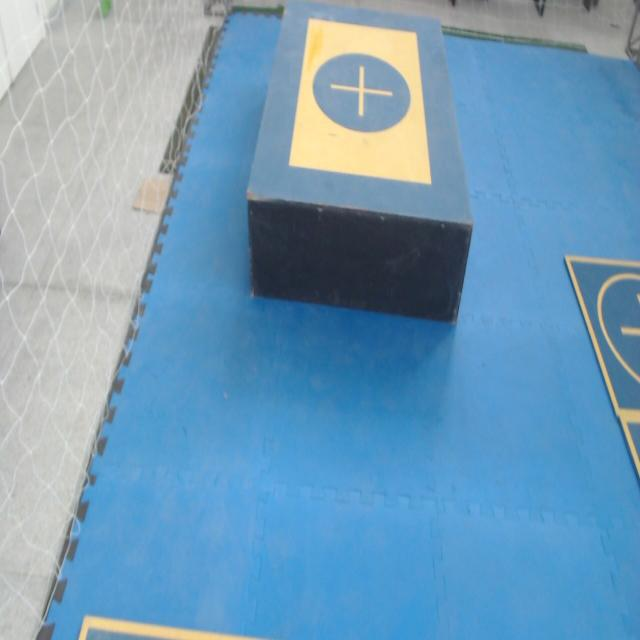base_inicio: (288, 19, 432, 183)
base_pouso: (564, 257, 640, 415), (76, 614, 267, 639), (619, 416, 640, 483)
